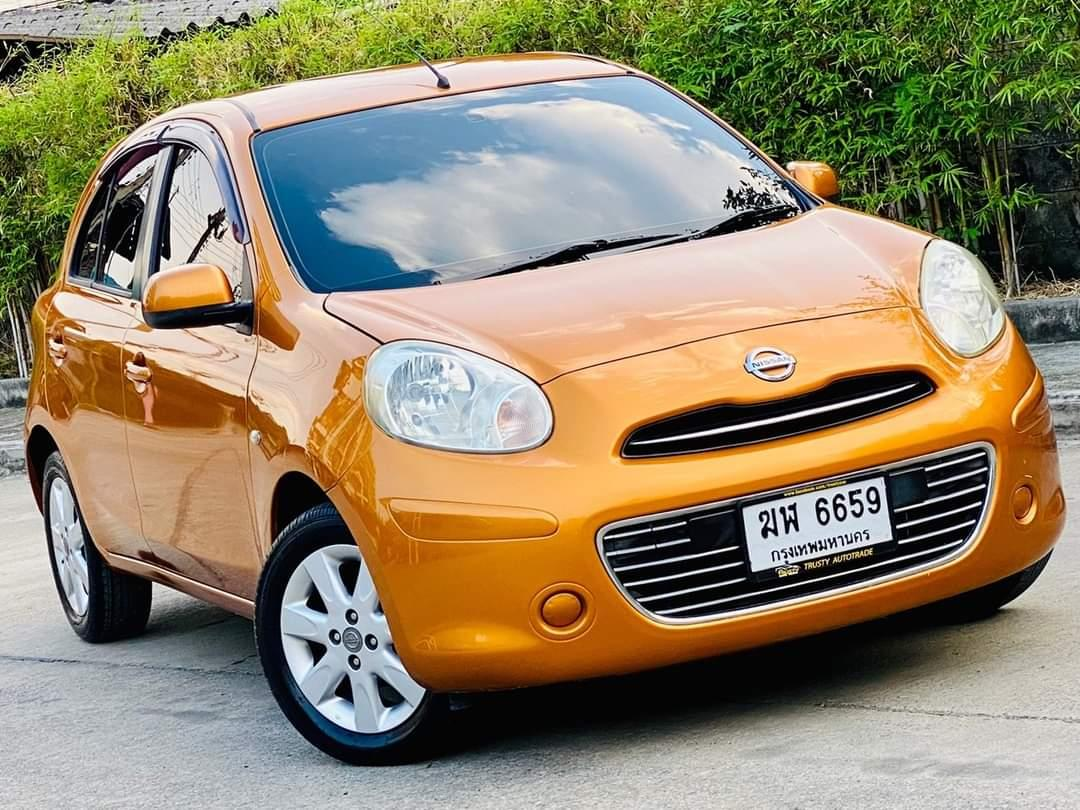license-plate: (735, 461, 903, 593)
